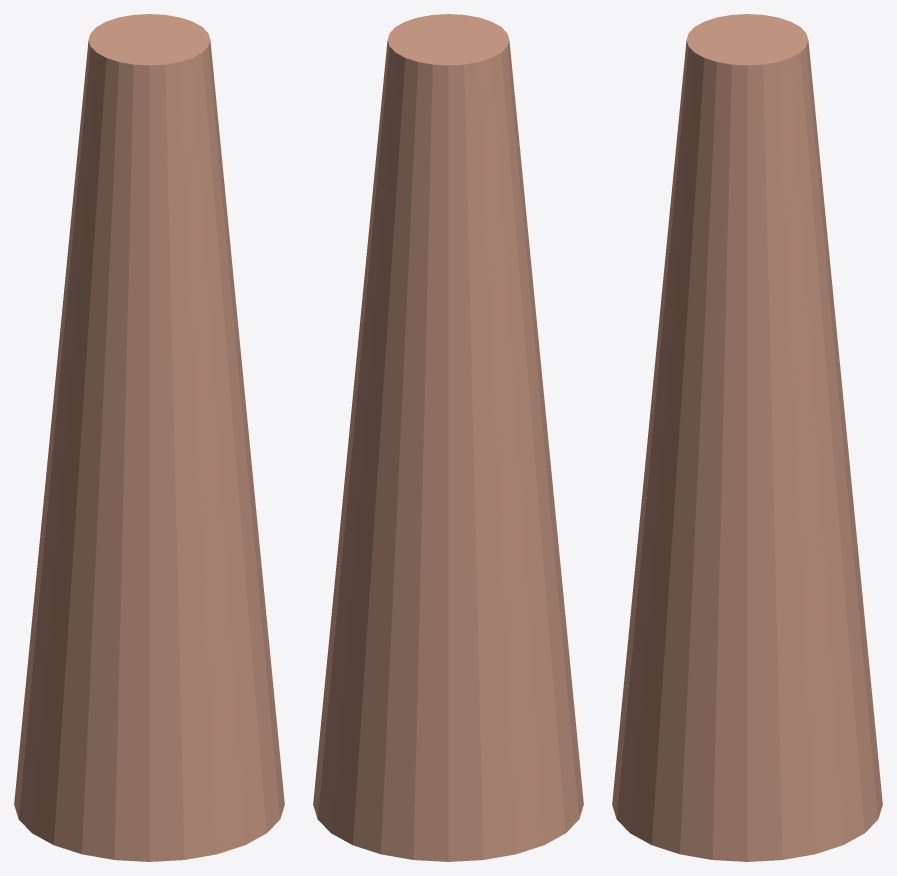
File: place-gonbad-e-qabus.glb
The picture shows the model from 3 angles, left to right: view 1: azimuth 30°, elevation 25°; view 2: azimuth 150°, elevation 25°; view 3: azimuth 270°, elevation 25°; orthographic projection.
Visible parts, largest first — view 1: place-gonbad-e-qabus; view 2: place-gonbad-e-qabus; view 3: place-gonbad-e-qabus.
Boxes of the visible parts, box(x1,y1,x2,y2) form: place-gonbad-e-qabus: box(14, 14, 284, 861); place-gonbad-e-qabus: box(313, 14, 583, 861); place-gonbad-e-qabus: box(612, 14, 882, 861).
Size of the model in its own units: 17 by 53 by 17.
